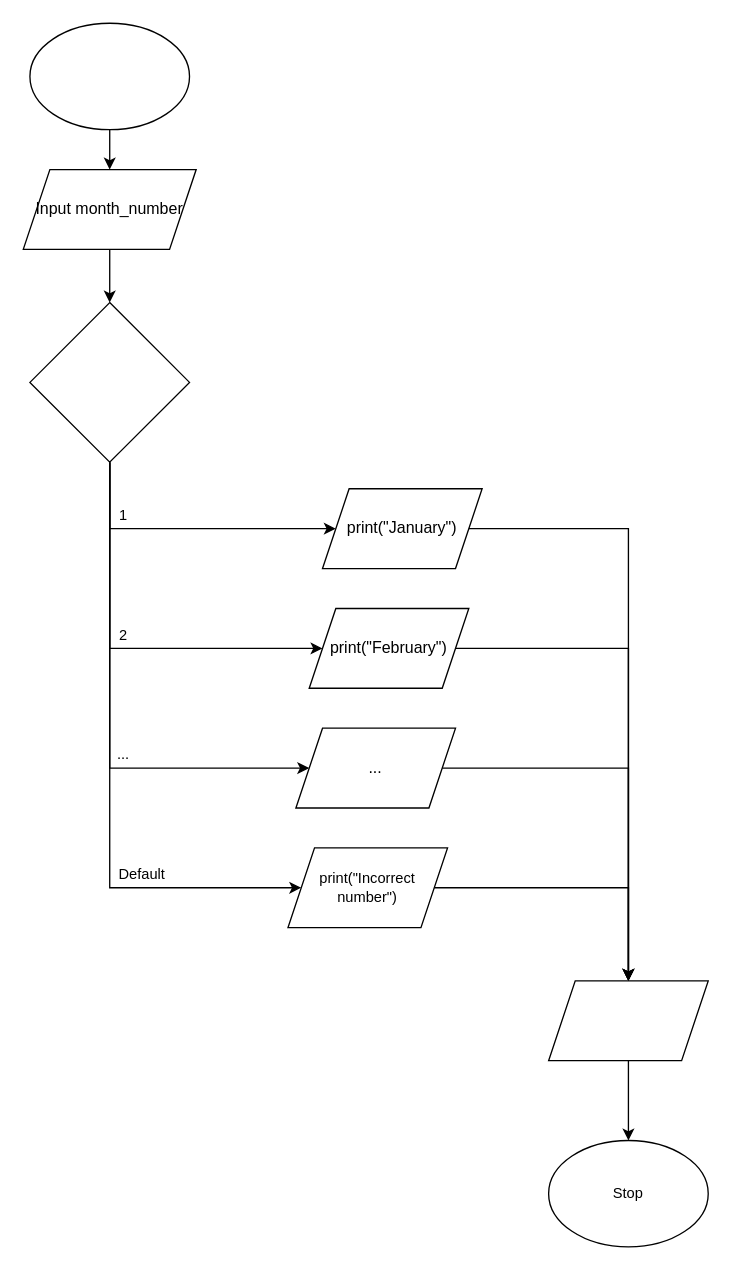
This 732x1270 diagram has some shape labels left out. The shapes that lost their labels are listed below. From the top down, each one's box as (x1, y1, x2, y2) in pixels, then its label:
(29, 22, 190, 130): Start
(29, 301, 190, 462): Name of the month
(547, 980, 708, 1061): Show answer
